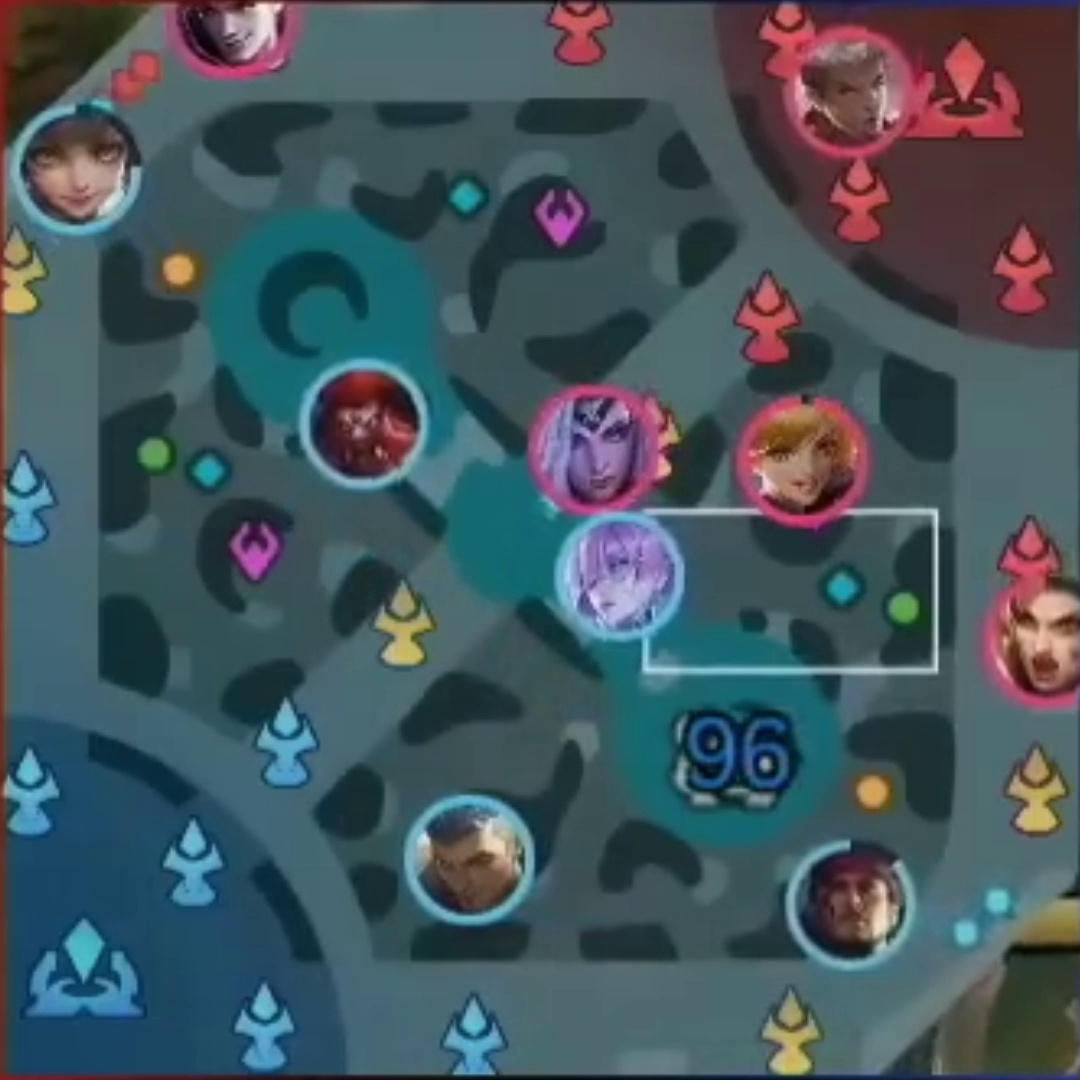Chou: (804, 51, 894, 138)
Claude: (194, 1, 277, 65)
Fanny: (757, 413, 841, 515)
Fredrinn: (423, 811, 516, 903)
Lapu-Lapu: (812, 853, 896, 950)
Masha: (1013, 596, 1080, 688)
Minotaur: (323, 378, 405, 473)
Novaria: (571, 529, 666, 624)
Valentina: (549, 402, 637, 506)
Wanwan: (32, 122, 127, 223)
